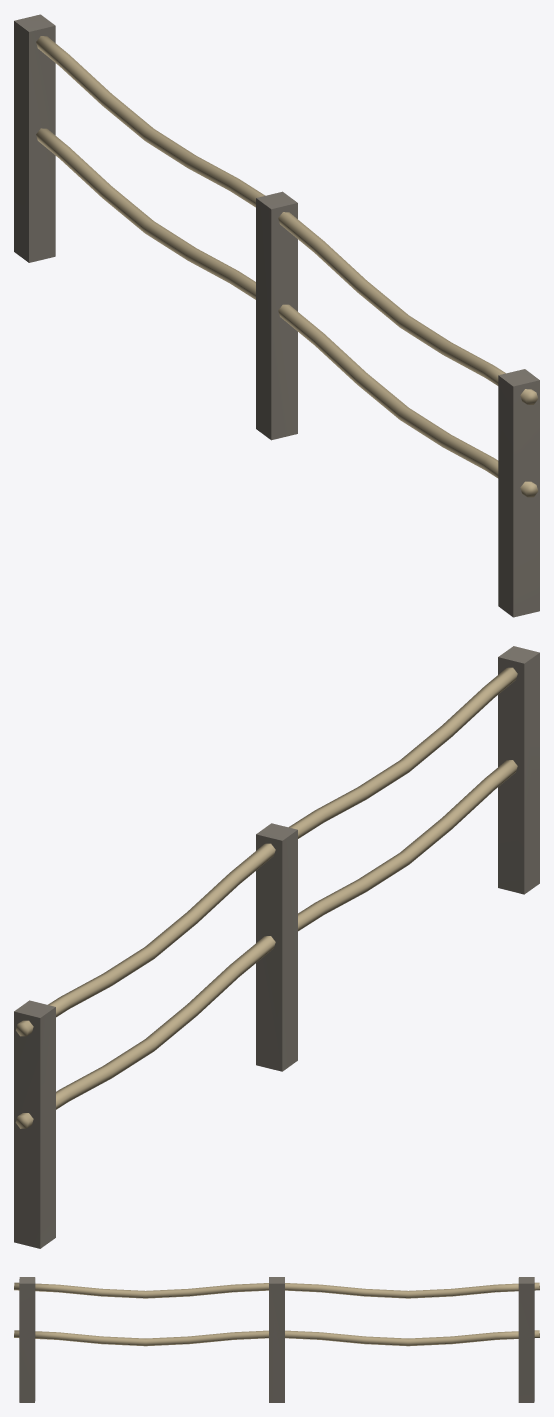
Rendered from Pier_Rail_4m.glb.
3 views of the same model, one above another, from view 1: azimuth 30°, elevation 25°; view 2: azimuth 150°, elevation 25°; view 3: azimuth 270°, elevation 25° (orthographic). The views are drawn at different scales.
Parts seen in each view (by area): view 1: Pier_Rail_4m; view 2: Pier_Rail_4m; view 3: Pier_Rail_4m.
Boxes of the visible parts, x1,y1,x2,y2 form: Pier_Rail_4m: [14, 14, 539, 617]; Pier_Rail_4m: [14, 646, 539, 1248]; Pier_Rail_4m: [14, 1277, 539, 1402].
Size of the model in its own units: 0.1216 by 1 by 4.
